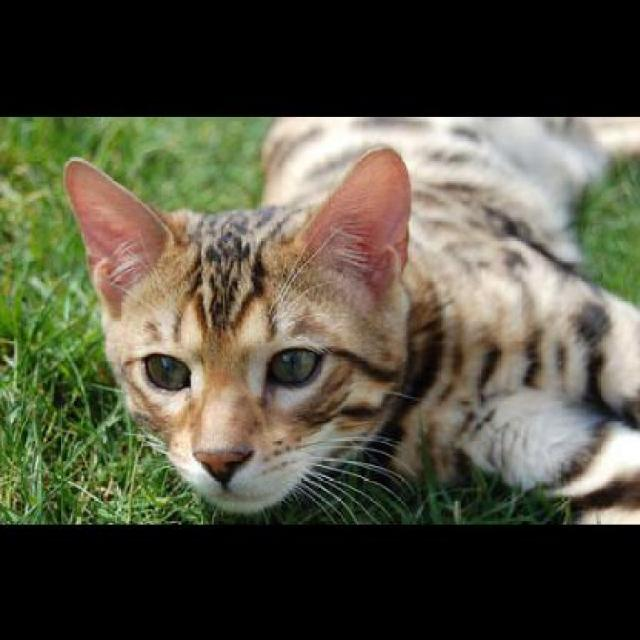unauthorized: (60, 116, 638, 526)
